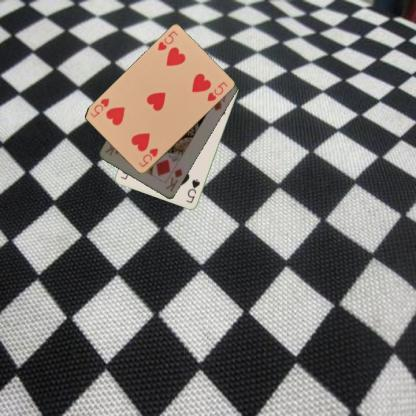5h: (155, 29, 179, 52), (136, 146, 160, 168)
5s: (183, 176, 201, 204)
Kd: (163, 166, 184, 193)
